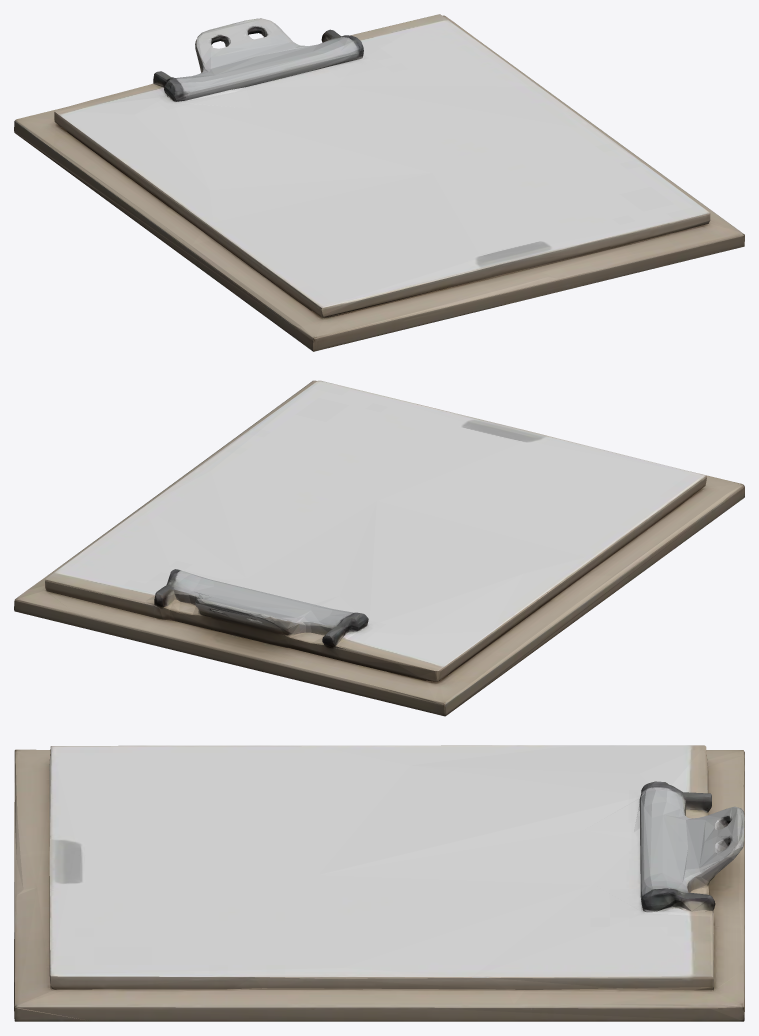
Rendered from clipboard.glb.
3 renders of one model, top to bottom at view 1: azimuth 30°, elevation 25°; view 2: azimuth 150°, elevation 25°; view 3: azimuth 270°, elevation 25°, orthographic. The views are drawn at different scales.
Visible parts, largest first — view 1: geometry_0; view 2: geometry_0; view 3: geometry_0.
Boxes of the visible parts, x1,y1,x2,y2 form: geometry_0: [14, 14, 744, 351]; geometry_0: [14, 380, 744, 716]; geometry_0: [14, 745, 744, 1021].
Bounding box in the file's own units: 0.8326 × 0.1047 × 1.
Materials: 1 (1 with a texture image).
